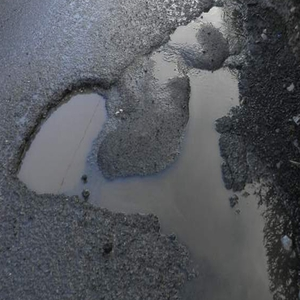pothole: (8, 64, 297, 300)
